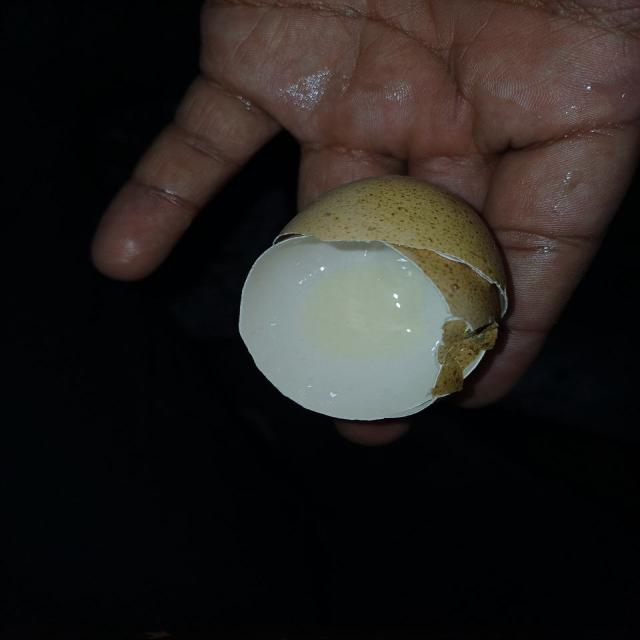organic: (237, 174, 512, 423)
